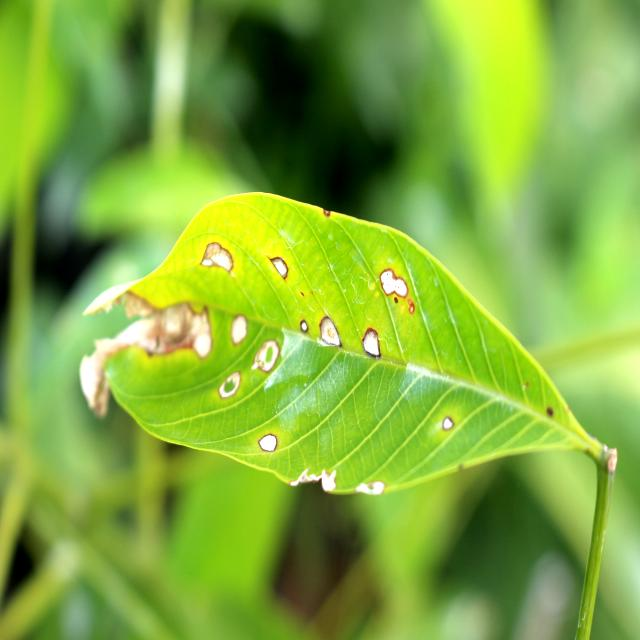Colletotrichum: (253, 338, 280, 373), (319, 317, 342, 348), (218, 371, 241, 399), (362, 326, 381, 358), (230, 314, 248, 345), (271, 256, 288, 280), (258, 434, 277, 452), (442, 416, 454, 429), (300, 320, 308, 332), (408, 303, 414, 315), (394, 298, 398, 304)
Leaf-Blight: (78, 290, 213, 419)
